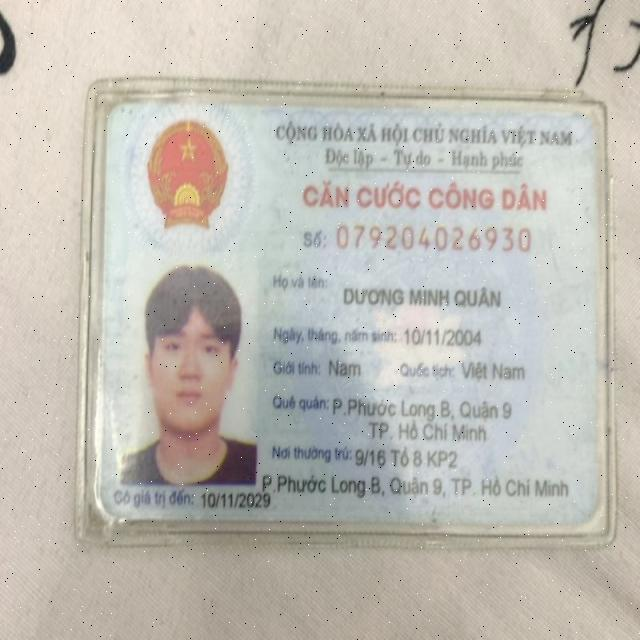current_place: (262, 469, 579, 501), (349, 446, 458, 471)
dob: (401, 322, 486, 349)
expire_date: (199, 484, 274, 510)
gender: (326, 356, 363, 380)
id: (333, 218, 536, 255)
name: (340, 283, 505, 312)
nationality: (458, 357, 528, 386)
origin_place: (332, 391, 519, 423), (368, 418, 492, 447)
